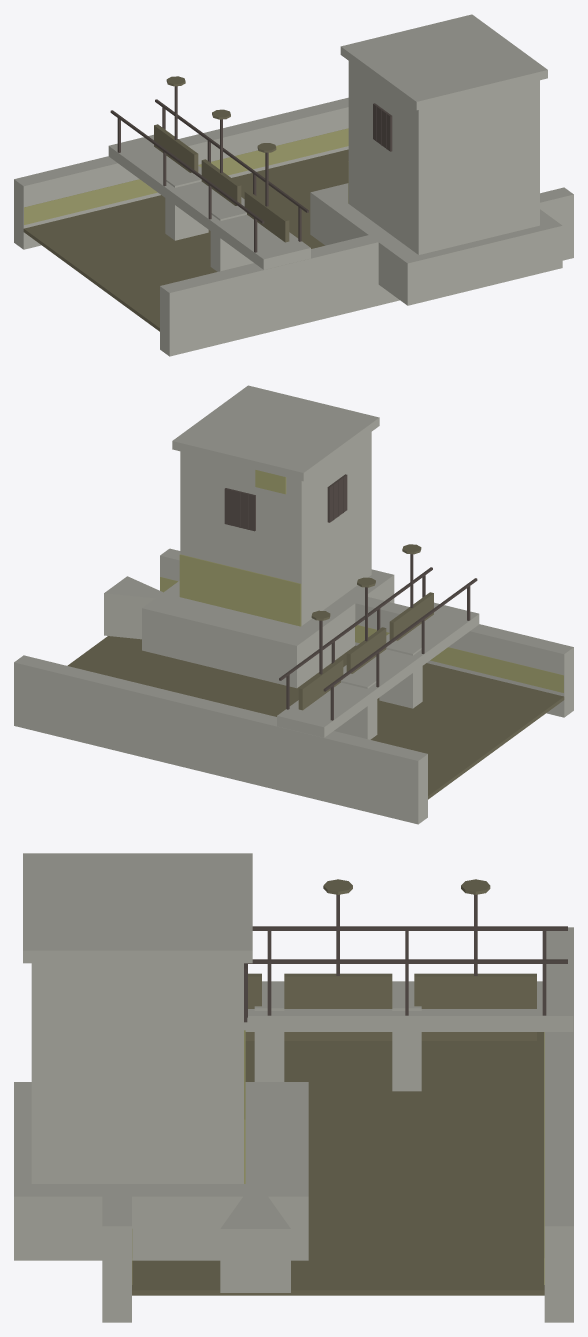
The model's file is SM_CasetaCompuertas_v1_Abiertas_LOD0.fbx.
3 renders of one model, top to bottom at view 1: azimuth 30°, elevation 25°; view 2: azimuth 150°, elevation 25°; view 3: azimuth 270°, elevation 25°, orthographic. The views are drawn at different scales.
Visible parts, largest first — view 1: SM_bloques.caseta_compuertas_v1_LOD0; view 2: SM_bloques.caseta_compuertas_v1_LOD0; view 3: SM_bloques.caseta_compuertas_v1_LOD0.
Part boxes in pixels (left/top/right/bottom): SM_bloques.caseta_compuertas_v1_LOD0: left=14, top=14, right=573, bottom=356; SM_bloques.caseta_compuertas_v1_LOD0: left=14, top=385, right=573, bottom=824; SM_bloques.caseta_compuertas_v1_LOD0: left=14, top=853, right=573, bottom=1322.
Bounding box in the file's own units: 12.1 × 6.24 × 9.5.
